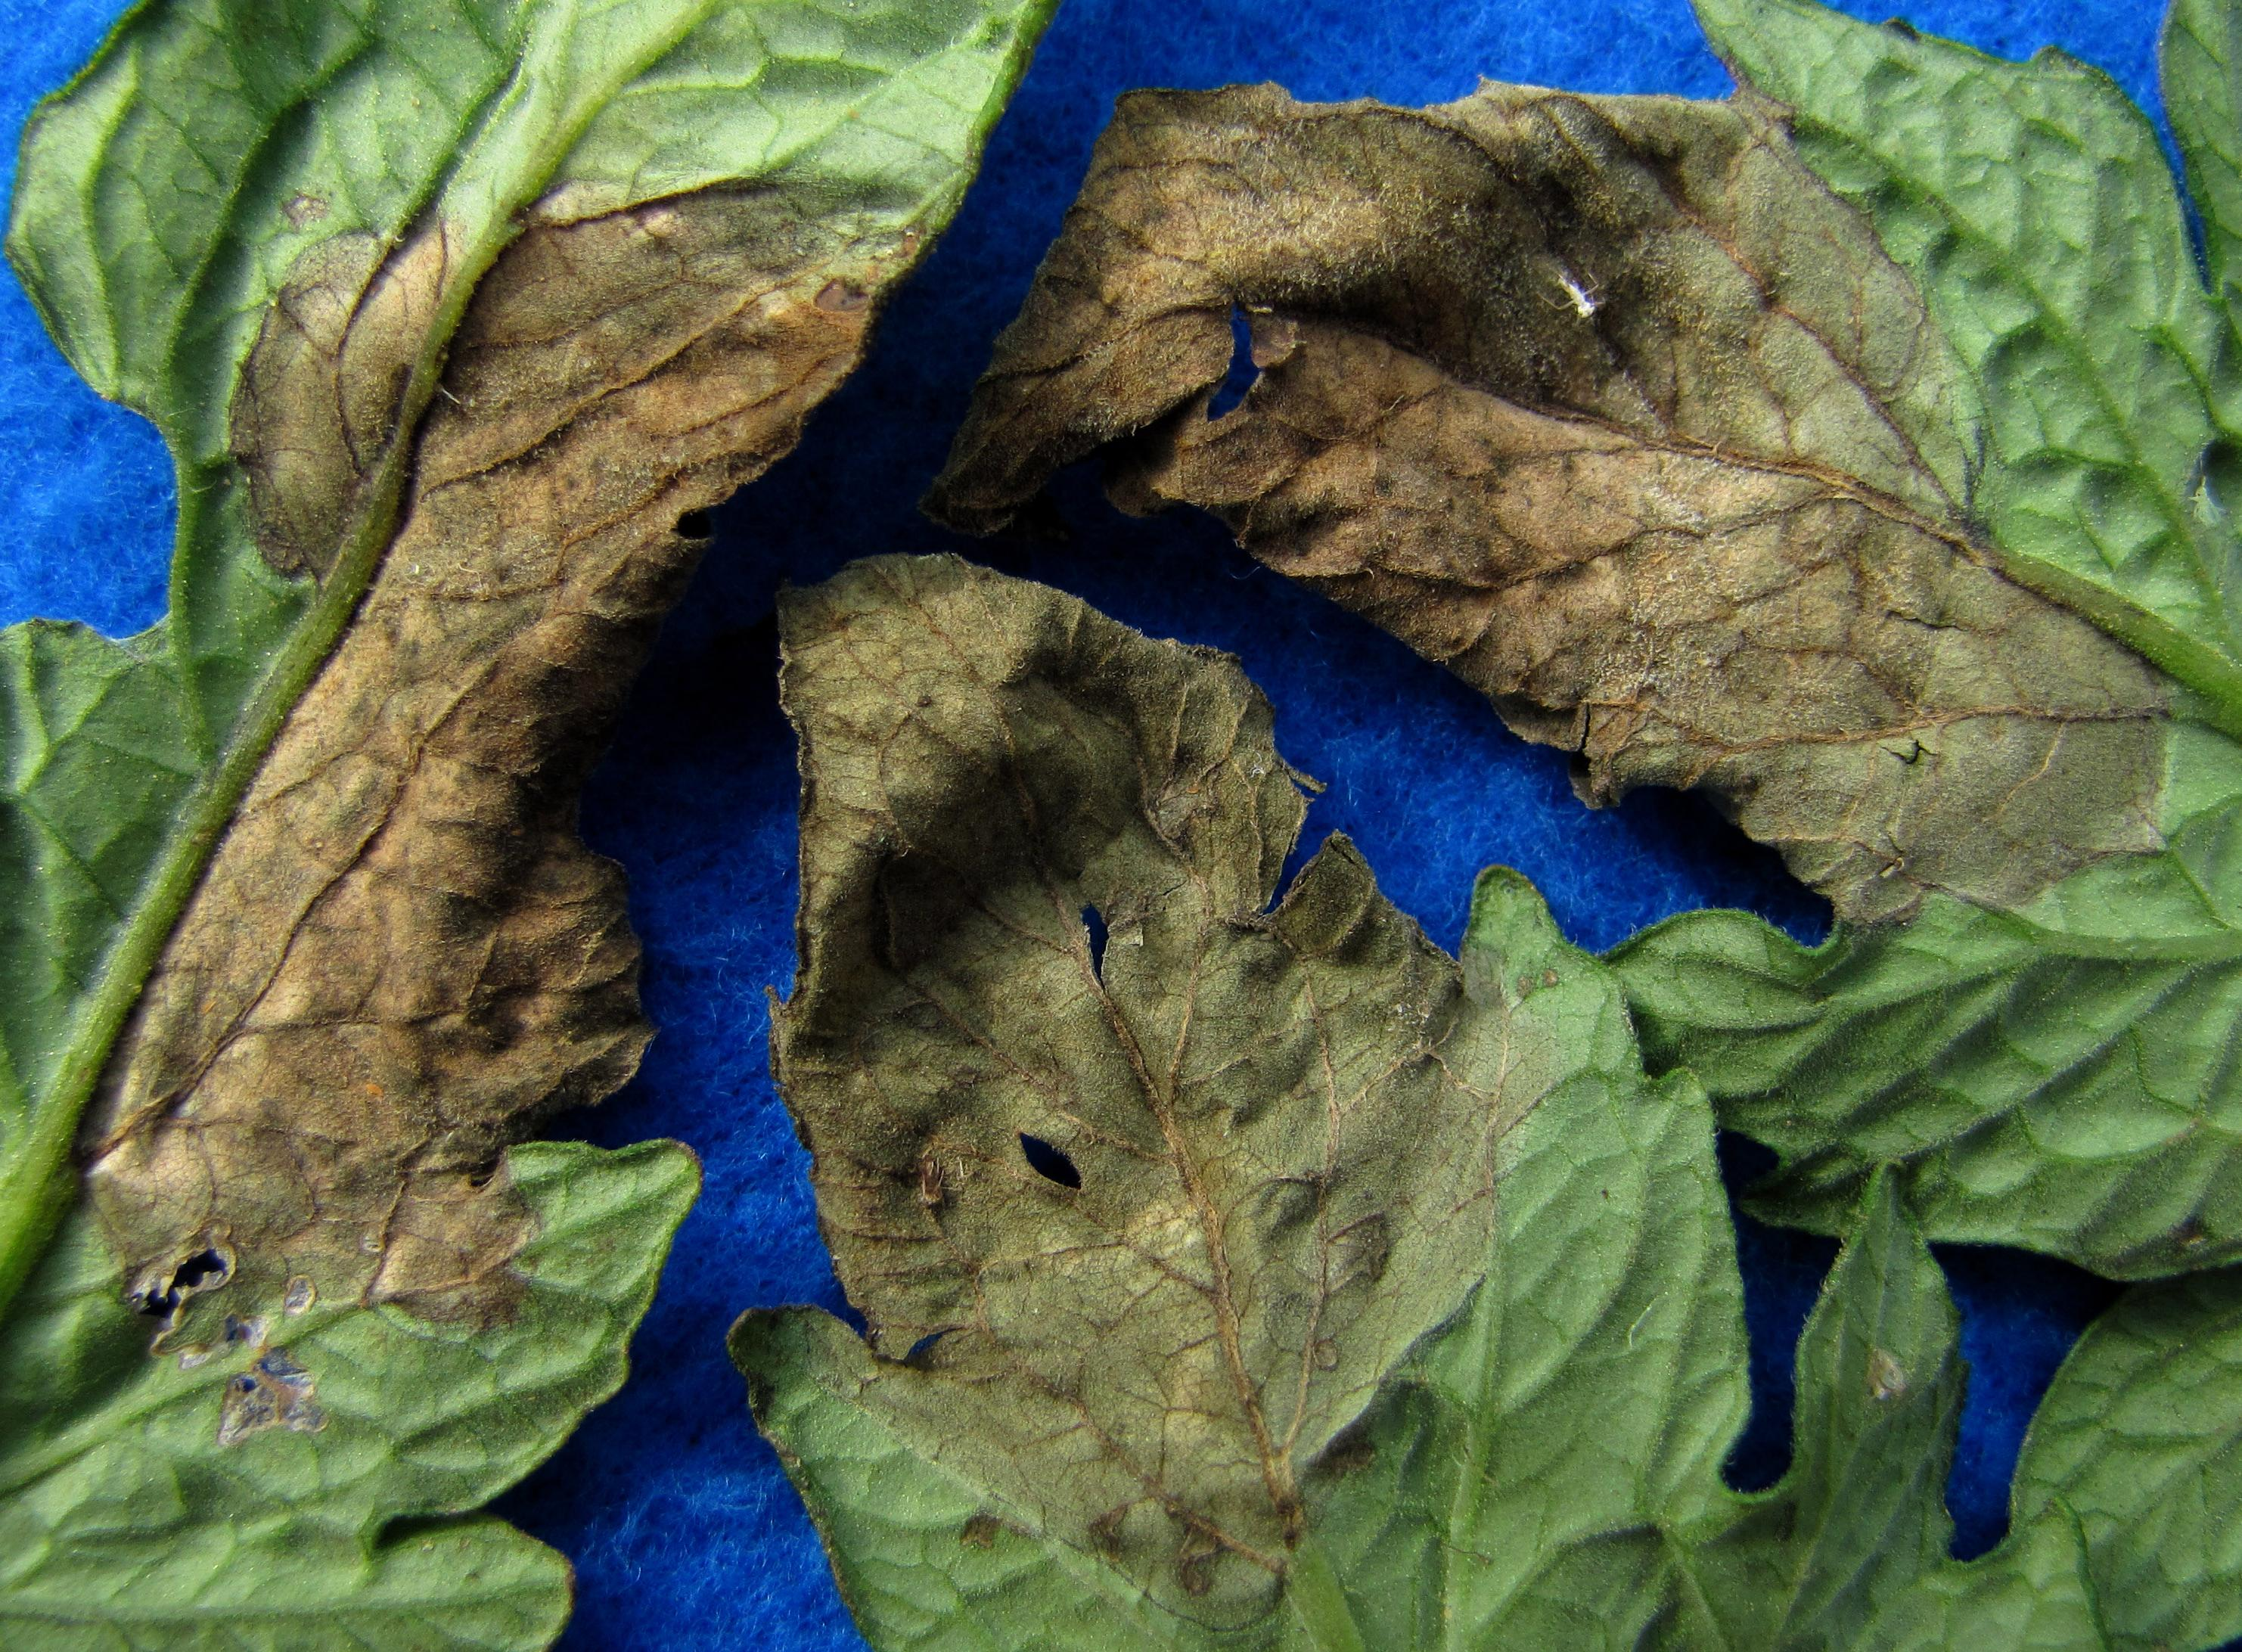Tomato leaf late blight: (995, 5, 2241, 1268), (668, 542, 1983, 1644)
